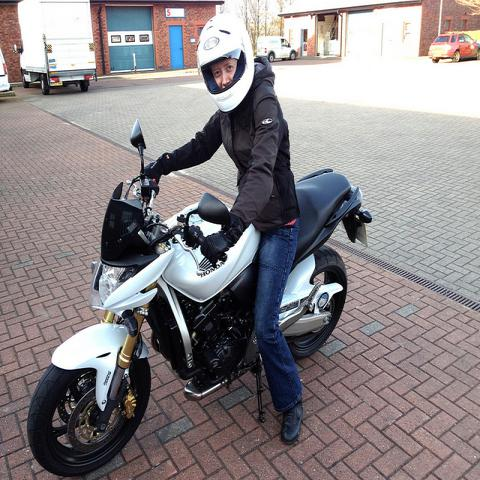car: (428, 32, 480, 64)
motorcycle: (18, 120, 369, 471)
truck: (18, 1, 96, 91), (256, 36, 298, 63)
